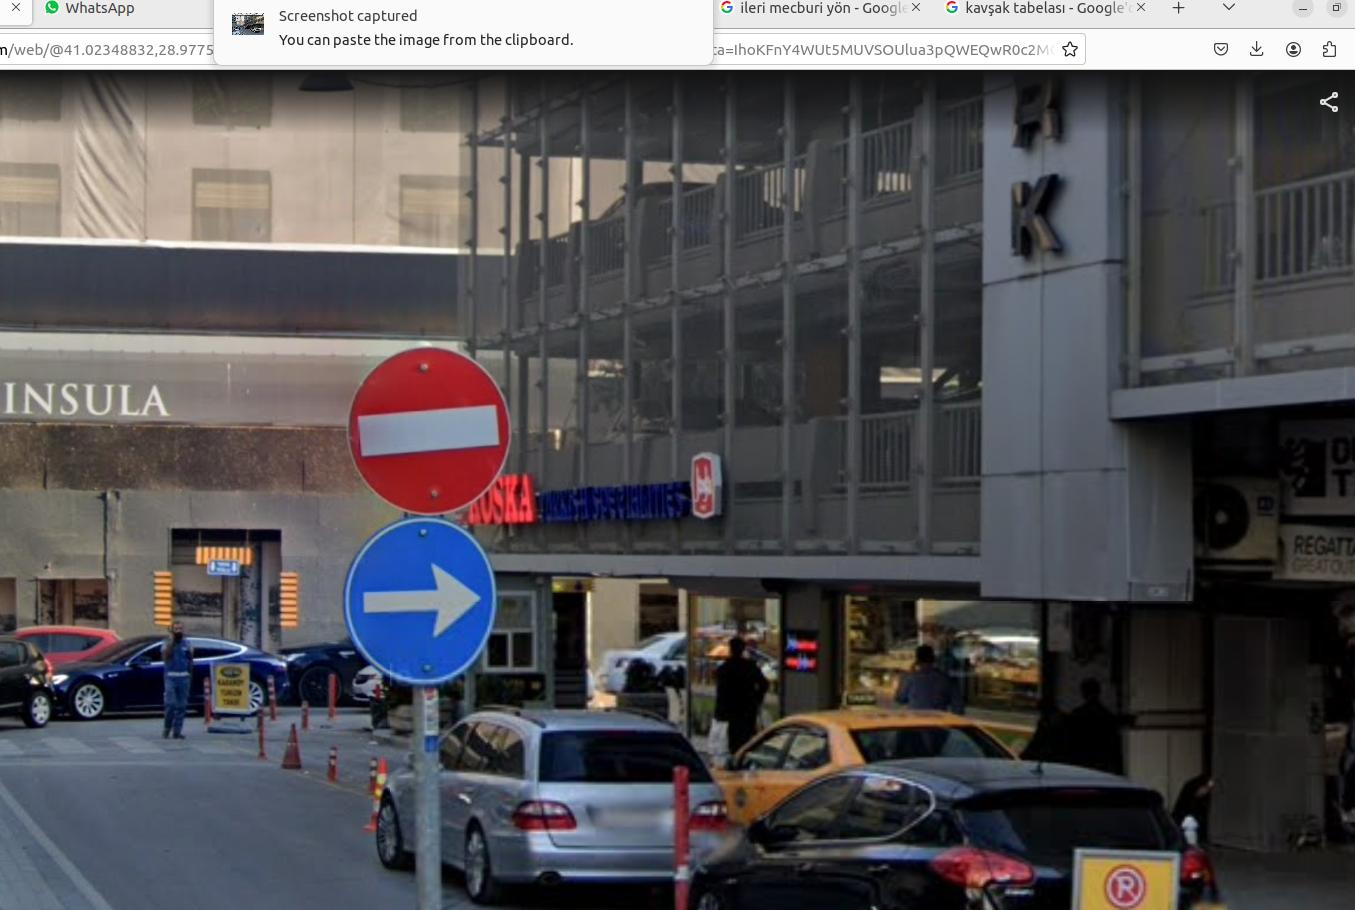turnright: (349, 521, 498, 679)
